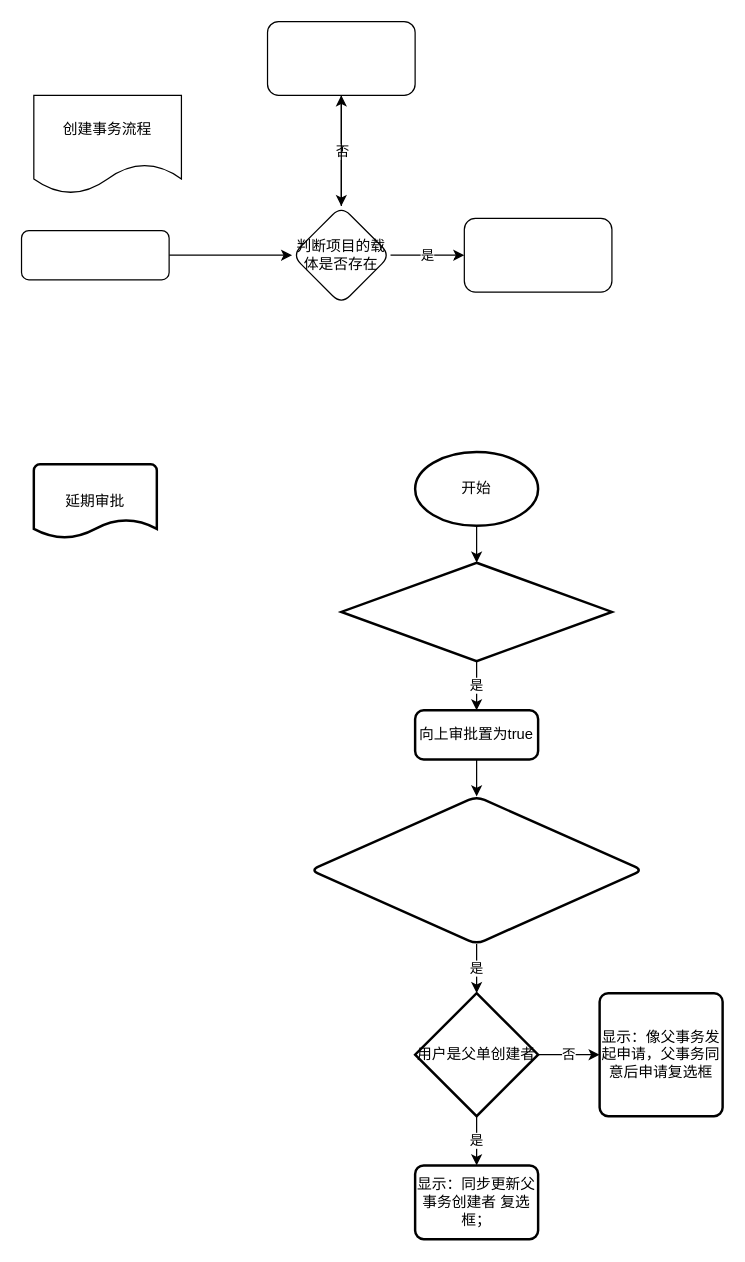
The diagram is 745 pixels wide and 1262 high, and some of its shapes have lost their labels. Each missing label, with the centre of its shape:
"operateBar.jsx 获取载体列表" goes at point (94, 254).
"单据有父单 && （审批人是父单的创建者 ||是父单执行者）&& （申请延期的时间>父单的截止时间）" goes at point (476, 870).
"提醒用户去创建模板" goes at point (340, 57).
"本单截止时间小于申请延期的时间" goes at point (476, 611).
